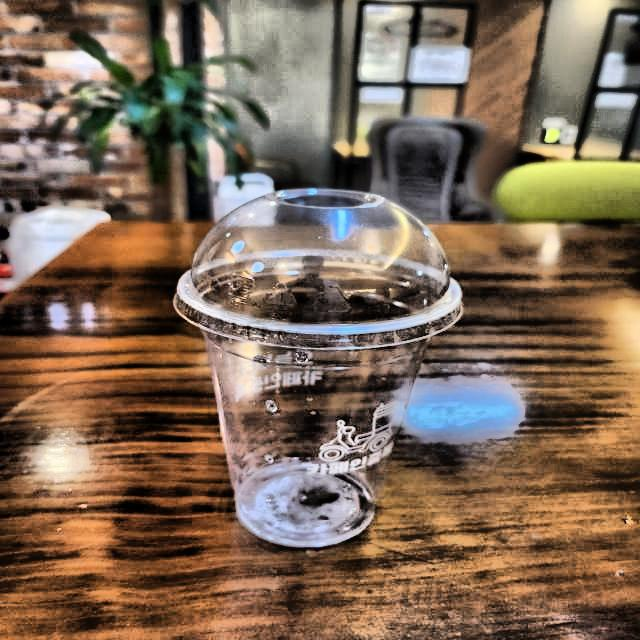plastic cup: (161, 170, 478, 585)
